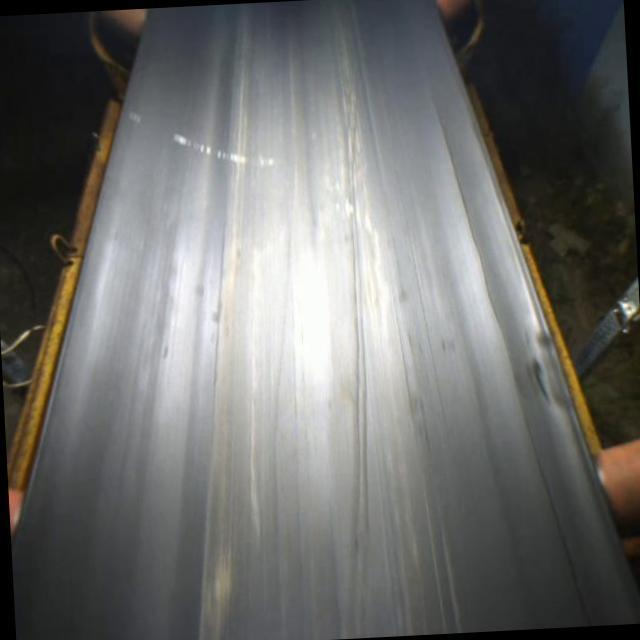Tear: (414, 95, 589, 600), (343, 122, 377, 564)
